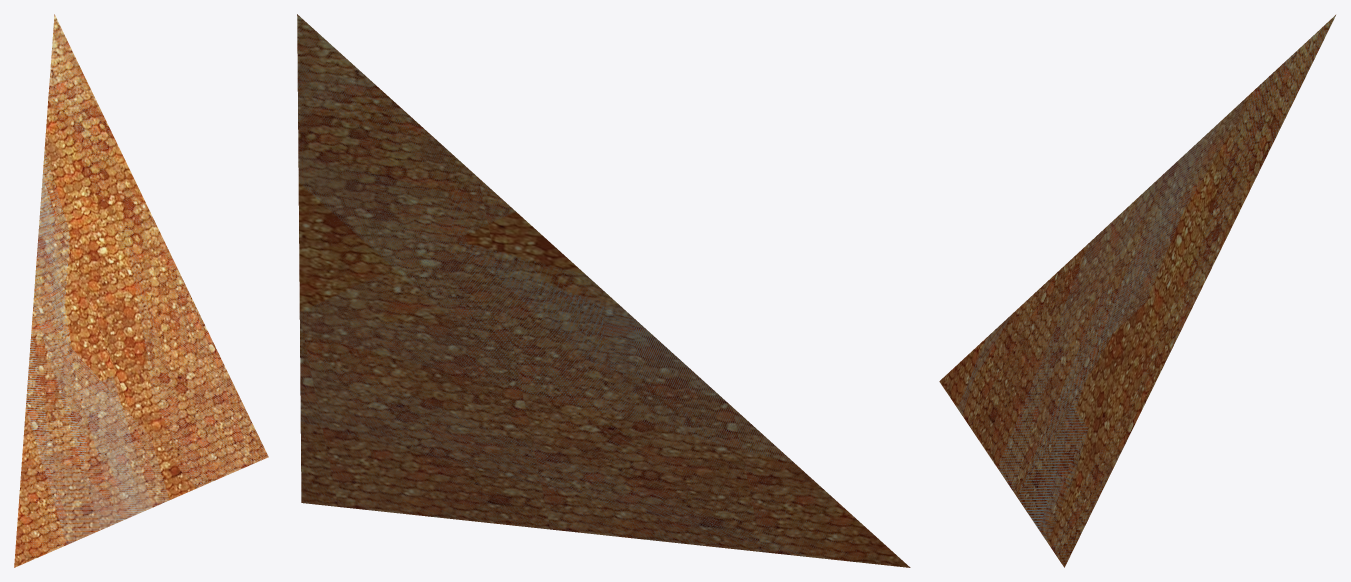
The model's file is 西庸城堡146.dae.
3 views of the same model, side by side, from view 1: azimuth 30°, elevation 25°; view 2: azimuth 150°, elevation 25°; view 3: azimuth 270°, elevation 25° (orthographic). The views are drawn at different scales.
Visible parts, largest first — view 1: SketchUp; view 2: SketchUp; view 3: SketchUp.
Part boxes in pixels (box(x1,y1,x2,y2)): SketchUp: box(14, 14, 268, 567); SketchUp: box(297, 14, 910, 567); SketchUp: box(939, 15, 1335, 567).
Size of the model in its own units: 225 by 203 by 276.
